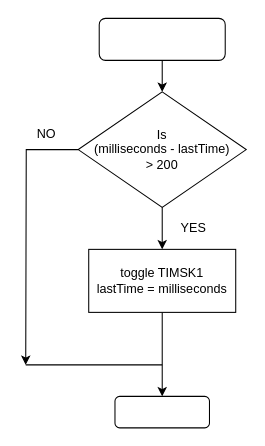
This 265x446 diagram has some shape labels left out. The box of each missing label's shape, as (x1, y1, x2, y2) in pixels:
END: (114, 395, 209, 428)
START: (98, 17, 225, 60)
